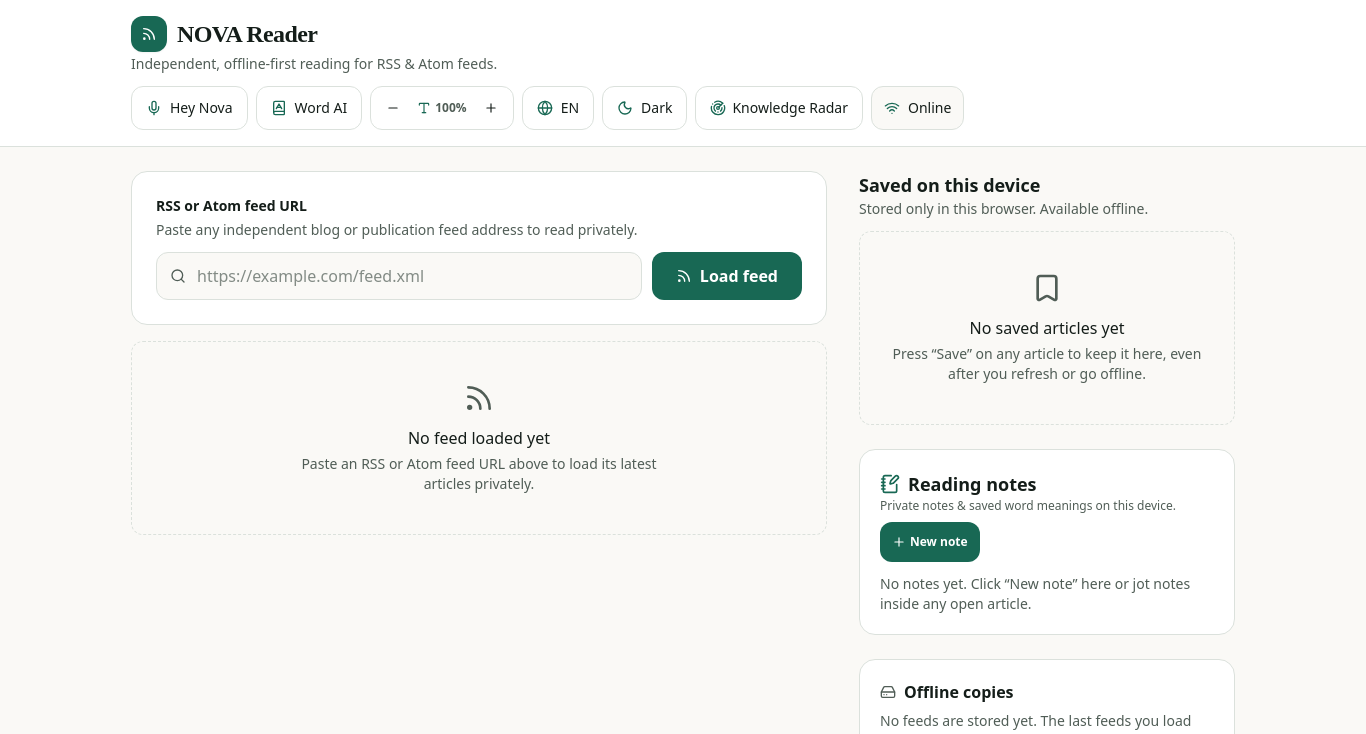
Test: HomePage – loading and success › never renders feed text as HTML
The width and height of the screenshot is (1366, 734).
In the field labelled "RSS or Atom feed URL": (399, 276) [156,252,642,300], type "https://mock.example/feed.xml"
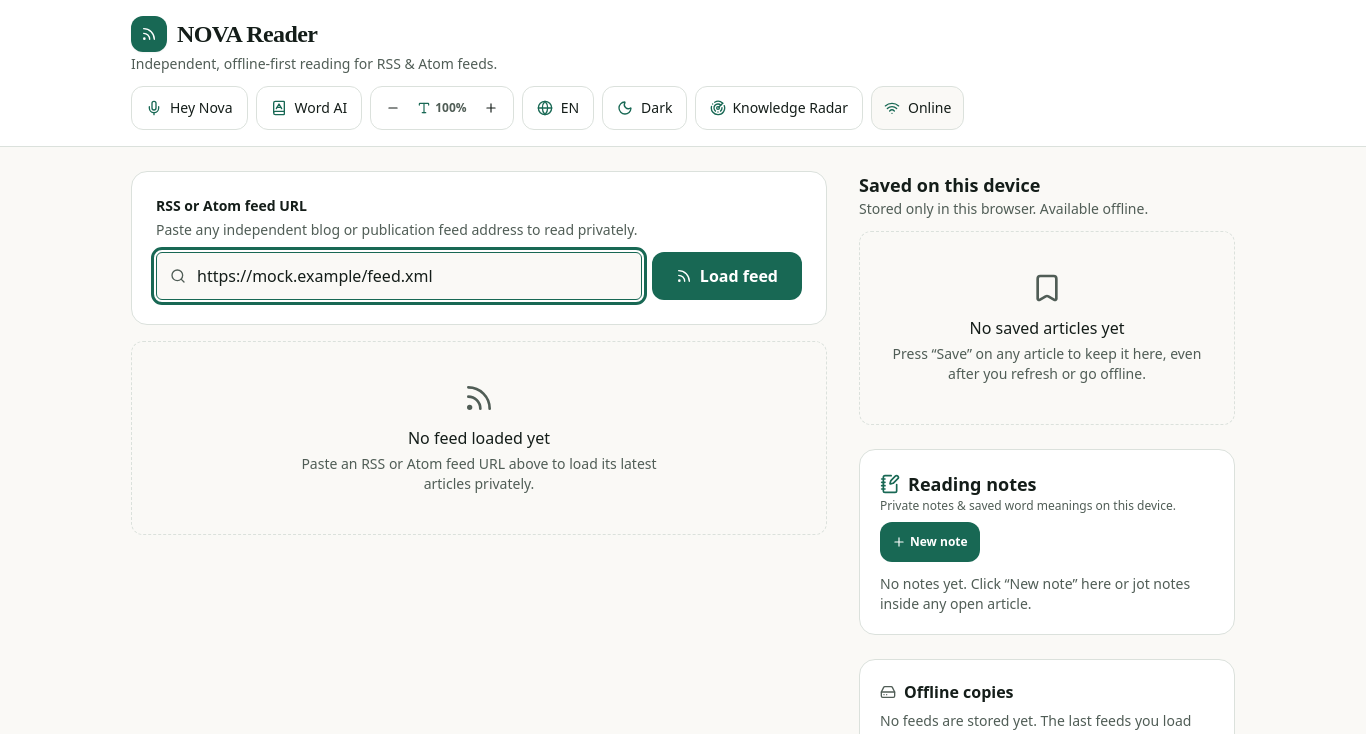
Click the button "Load feed": (727, 276) [652,252,802,300]
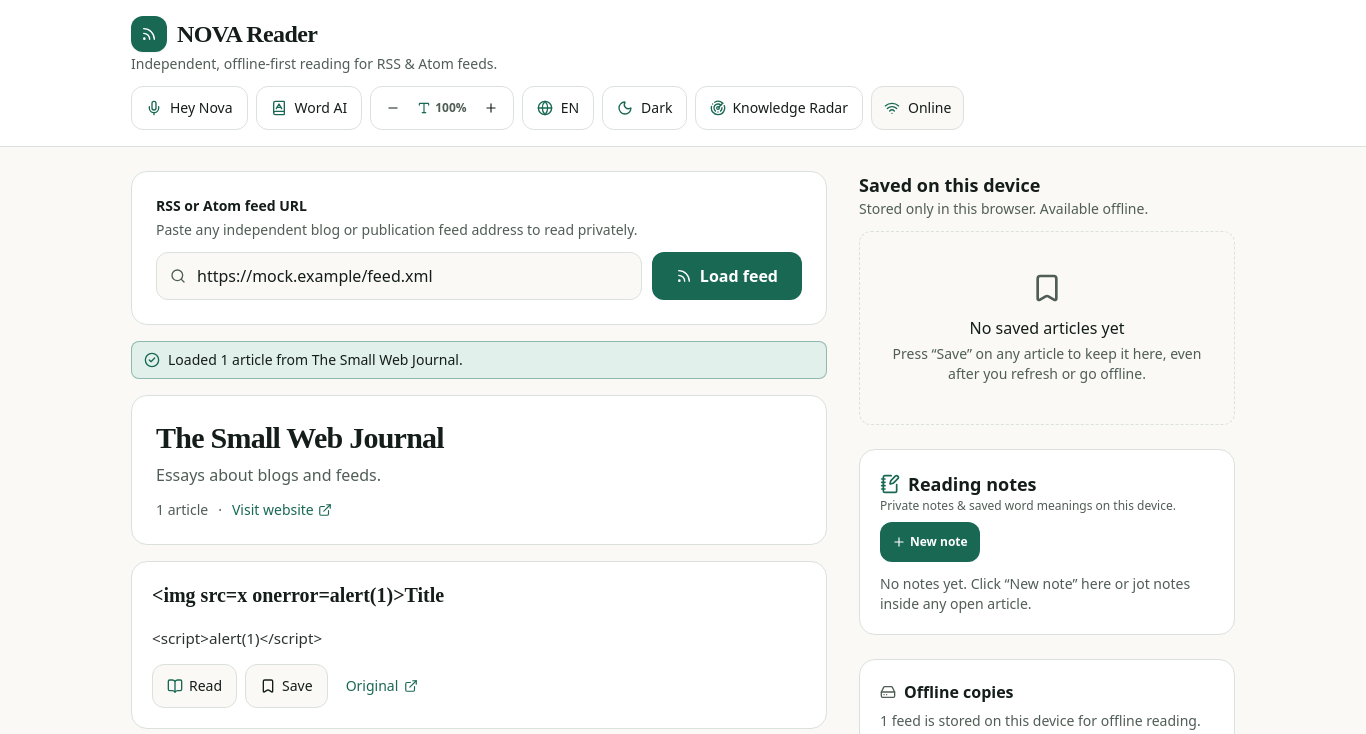
expect the heading "<img src=x onerror=alert(1)>Title" is shown: met, box [152,584,444,606]
